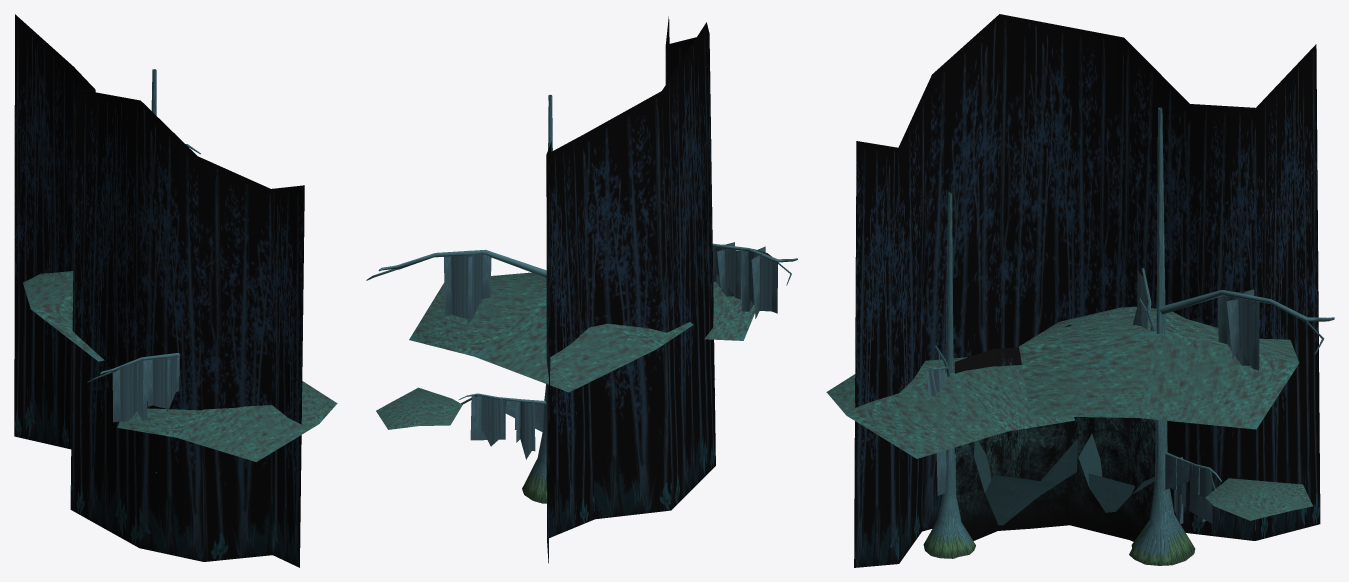
Rendered from tunnel_block_swamp.fbx.
3 renders of one model, left to right at view 1: azimuth 30°, elevation 25°; view 2: azimuth 150°, elevation 25°; view 3: azimuth 270°, elevation 25°, orthographic. The views are drawn at different scales.
Parts seen in each view (by area): view 1: TreesBG2, BranchesIndividual30, BranchesIndividual22, pCylinder119, pCylinder148; view 2: TreesBG2, BranchesIndividual22, pCylinder118, BranchesIndividual12, pCylinder119, BranchesIndividual30, SwampTreeBase_11, pCylinder148, pCylinder113, pCylinder117, pCylinder114, pPlane150; view 3: TreesBG2, BranchesIndividual22, ShrubsBGClose1, BranchesIndividual30, SwampTreeBase_11, SwampTreeBase_18, SpikyPlantA_379, BranchesIndividual12, pCylinder118, SpikyPlantA_380, pPlane150, pCylinder117.
Part boxes in pixels (bbox=[...]): TreesBG2: bbox=[14, 14, 304, 567]; BranchesIndividual30: bbox=[117, 381, 337, 462]; BranchesIndividual22: bbox=[23, 271, 104, 361]; pCylinder119: bbox=[112, 358, 147, 422]; pCylinder148: bbox=[147, 355, 179, 412]; TreesBG2: bbox=[546, 16, 715, 563]; BranchesIndividual22: bbox=[409, 272, 693, 392]; pCylinder118: bbox=[444, 252, 491, 323]; BranchesIndividual12: bbox=[376, 387, 462, 429]; pCylinder119: bbox=[740, 246, 777, 318]; BranchesIndividual30: bbox=[704, 277, 754, 340]; SwampTreeBase_11: bbox=[522, 94, 552, 503]; pCylinder148: bbox=[712, 242, 741, 299]; pCylinder113: bbox=[477, 395, 503, 446]; pCylinder117: bbox=[366, 249, 546, 280]; pCylinder114: bbox=[514, 401, 535, 459]; pPlane150: bbox=[470, 395, 543, 440]; TreesBG2: bbox=[854, 14, 1320, 567]; BranchesIndividual22: bbox=[1019, 306, 1299, 429]; ShrubsBGClose1: bbox=[954, 324, 1168, 541]; BranchesIndividual30: bbox=[826, 357, 1074, 458]; SwampTreeBase_11: bbox=[1129, 107, 1195, 565]; SwampTreeBase_18: bbox=[923, 192, 975, 558]; SpikyPlantA_379: bbox=[974, 438, 1077, 525]; BranchesIndividual12: bbox=[1205, 478, 1312, 520]; pCylinder118: bbox=[1217, 289, 1259, 370]; SpikyPlantA_380: bbox=[1078, 433, 1154, 512]; pPlane150: bbox=[1165, 454, 1212, 523]; pCylinder117: bbox=[1159, 290, 1334, 354].
Bounding box in the file's own units: 12046 × 18811 × 17265.
Materials: 2 (2 with a texture image).
